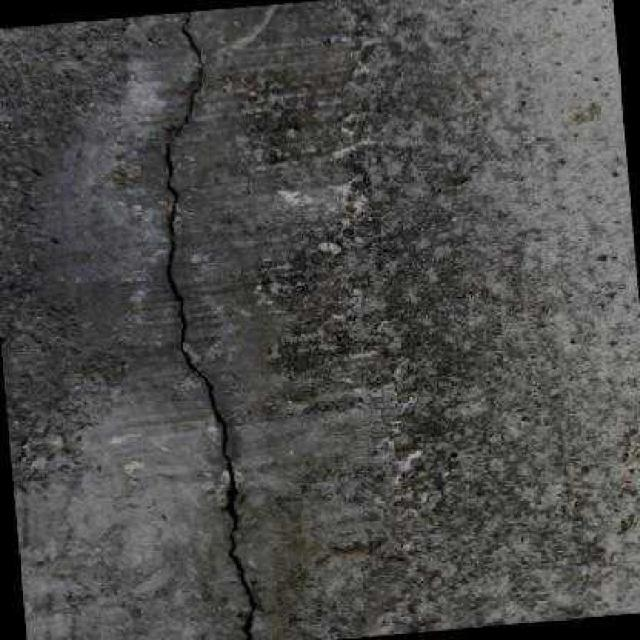D00: (165, 10, 255, 640)
